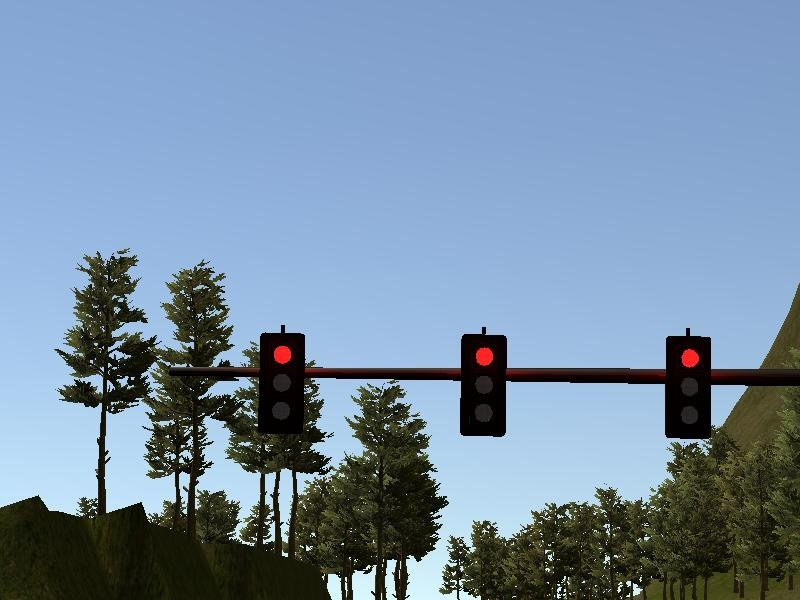red: (456, 333, 509, 438), (256, 331, 306, 435), (664, 334, 712, 440)
